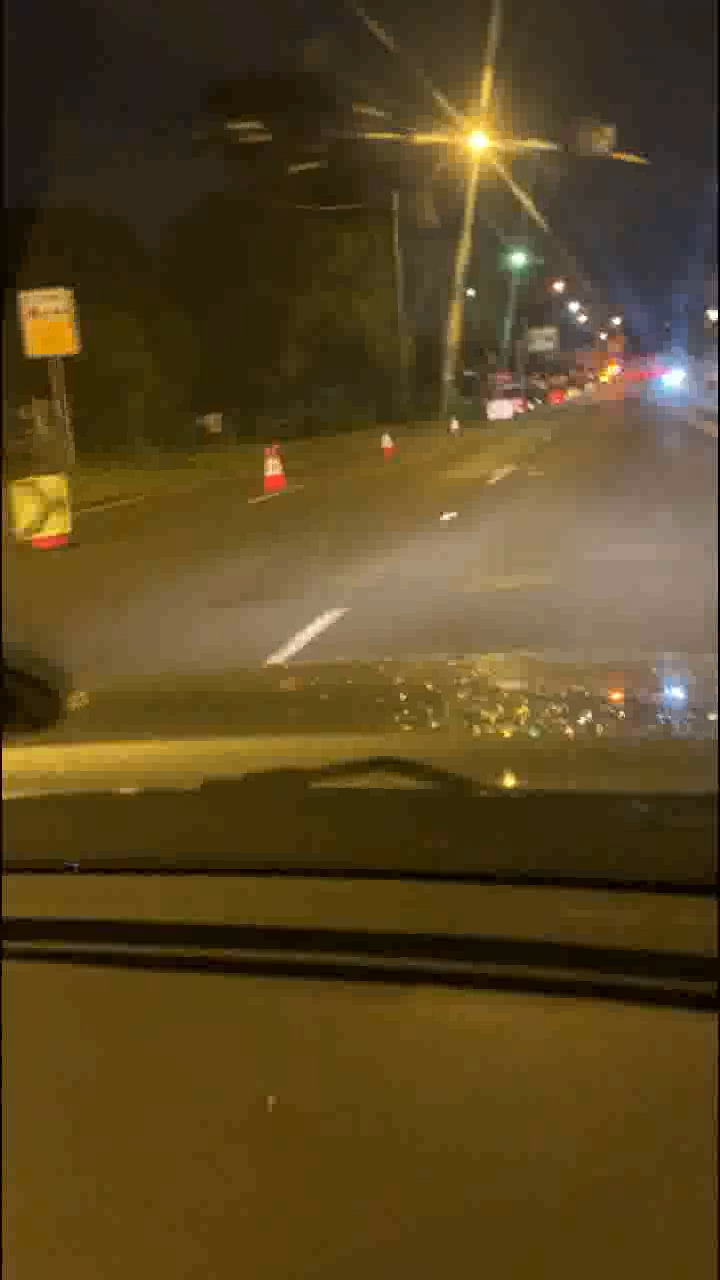road cone: (262, 444, 285, 488), (379, 432, 399, 454)
road works sign board: (10, 482, 70, 542)
